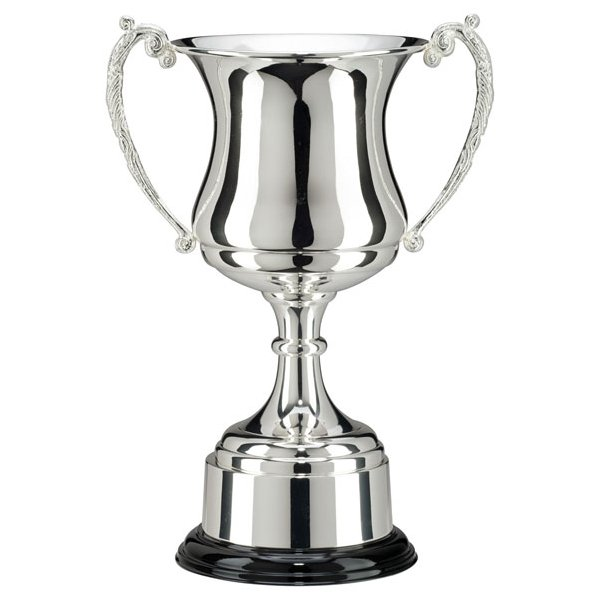trophy: (106, 14, 497, 590)
